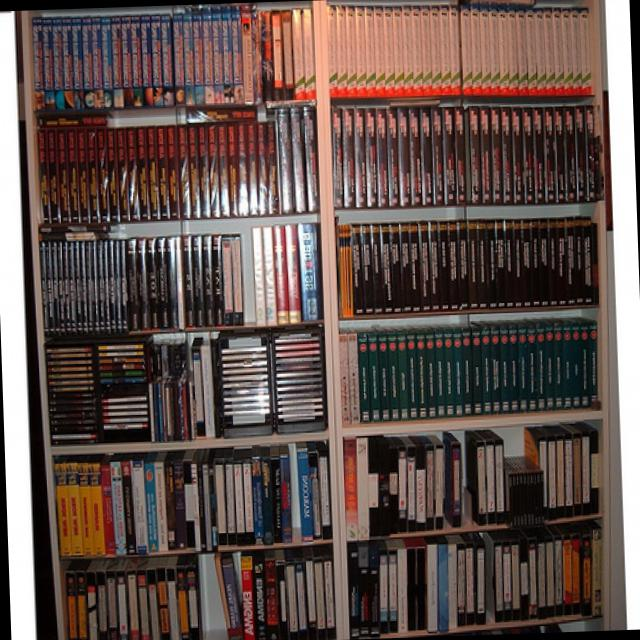dvd: (273, 328, 326, 430), (48, 342, 99, 441), (224, 345, 271, 433)
shelves crop: (21, 0, 628, 640)
videos: (37, 102, 320, 220), (57, 440, 334, 554), (33, 5, 316, 110), (341, 312, 600, 422), (333, 101, 603, 204), (331, 3, 594, 97), (350, 214, 600, 311), (39, 231, 245, 330), (466, 418, 599, 526), (348, 532, 486, 634), (346, 429, 463, 539), (482, 516, 603, 620), (69, 551, 202, 640), (213, 544, 336, 635), (251, 218, 324, 321), (193, 334, 223, 436)
wall clock: (0, 10, 38, 640), (607, 0, 640, 626)
